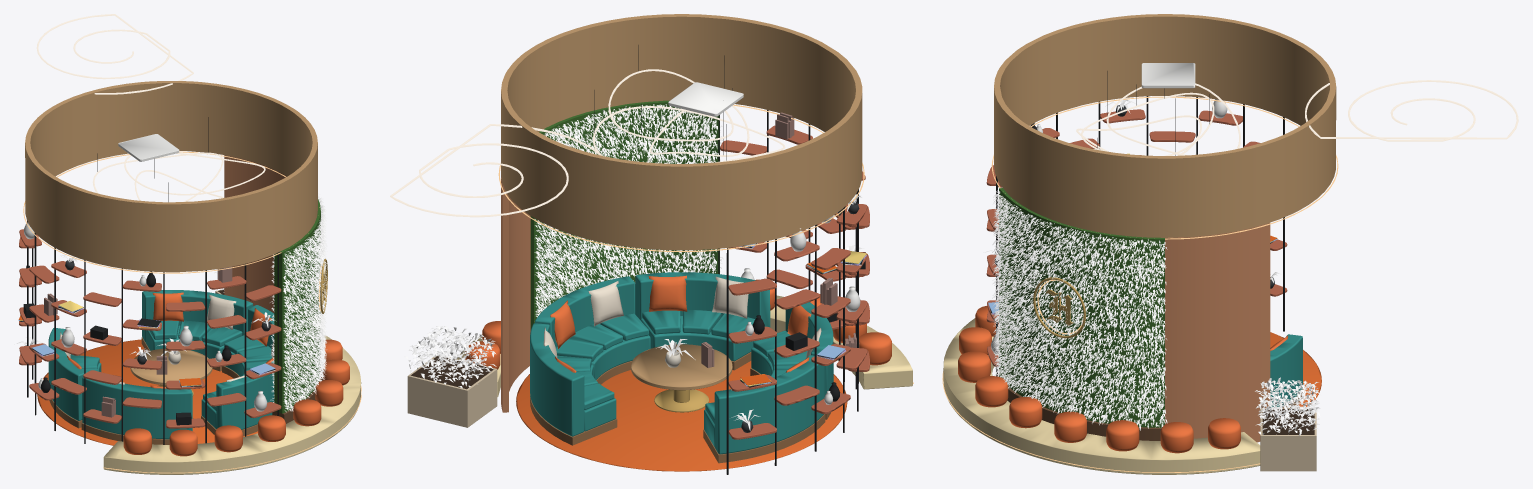
Rendered from hda_pod.glb.
The picture shows the model from 3 angles, left to right: view 1: azimuth 30°, elevation 25°; view 2: azimuth 150°, elevation 25°; view 3: azimuth 270°, elevation 25°; orthographic projection. The views are drawn at different scales.
Parts seen in each view (by area): view 1: Pod_Band_Oak, Pod_Bench, Pod_Grass_Blades, Pod_Grass_Core, Pod_Sofa_1, Pod_Sofa_3, Pod_Rug, Pod_Rods, Pod_Wall_Continuous, Pod_Sofa_5, Pod_Sofa_2, Pod_Table (+21 smaller); view 2: Pod_Band_Oak, Pod_Grass_Core, Pod_Rug, Pod_Grass_Blades, Pod_Sofa_5, Pod_Sofa_2, Pod_Sofa_3, Pod_Sofa_4, Pod_Wall_Continuous, Hedge_Pod_Box, Pod_Table, Pod_Rods (+17 smaller); view 3: Pod_Band_Oak, Pod_Grass_Blades, Pod_Grass_Core, Pod_Wall_Continuous, Pod_Bench, Hedge_Pod_Box, Hedge_Pod_Leaves, Reception_Spiral_Light, Pod_Sofa_3, Pod_AC_Cassette, Pod_Bench_Cushion.007, Pod_Bench_Cushion.004 (+9 smaller).
Boxes of the visible parts, box(x1,y1,x2,y2) form: Pod_Band_Oak: box(25, 81, 317, 272); Pod_Bench: box(103, 336, 361, 474); Pod_Grass_Blades: box(270, 193, 327, 412); Pod_Grass_Core: box(274, 199, 320, 413); Pod_Sofa_1: box(82, 377, 192, 439); Pod_Sofa_3: box(142, 290, 253, 358); Pod_Rug: box(37, 339, 257, 445); Pod_Rods: box(27, 221, 278, 444); Pod_Wall_Continuous: box(224, 155, 286, 313); Pod_Sofa_5: box(201, 361, 274, 429); Pod_Sofa_2: box(48, 328, 101, 420); Pod_Table: box(130, 348, 212, 396); Pod_Band_Oak: box(501, 14, 862, 250); Pod_Grass_Core: box(530, 100, 719, 329); Pod_Rug: box(516, 361, 847, 471); Pod_Grass_Blades: box(534, 104, 722, 317); Pod_Sofa_5: box(635, 272, 770, 361); Pod_Sofa_2: box(704, 355, 824, 454); Pod_Sofa_3: box(530, 323, 616, 436); Pod_Sofa_4: box(535, 276, 650, 379); Pod_Wall_Continuous: box(501, 175, 530, 412); Hedge_Pod_Box: box(407, 355, 497, 427); Pod_Table: box(631, 344, 732, 412); Pod_Rods: box(718, 110, 858, 474); Pod_Band_Oak: box(994, 14, 1336, 237); Pod_Grass_Blades: box(992, 190, 1167, 430); Pod_Grass_Core: box(999, 188, 1164, 427); Pod_Wall_Continuous: box(1165, 222, 1270, 442); Pod_Bench: box(943, 318, 1260, 474); Hedge_Pod_Box: box(1260, 408, 1316, 471); Hedge_Pod_Leaves: box(1255, 377, 1320, 435); Reception_Spiral_Light: box(1305, 80, 1518, 141); Pod_Sofa_3: box(1270, 334, 1302, 407); Pod_AC_Cassette: box(1141, 63, 1195, 88); Pod_Bench_Cushion.007: box(1106, 420, 1139, 451); Pod_Bench_Cushion.004: box(975, 376, 1008, 407).
Bounding box in the file's own units: 4.63 × 3.76 × 6.65.
